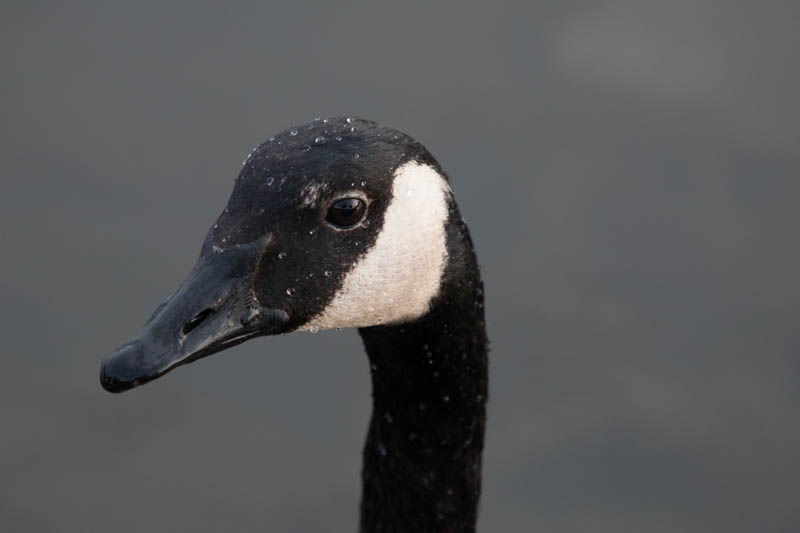goose-head: (96, 115, 479, 396)
